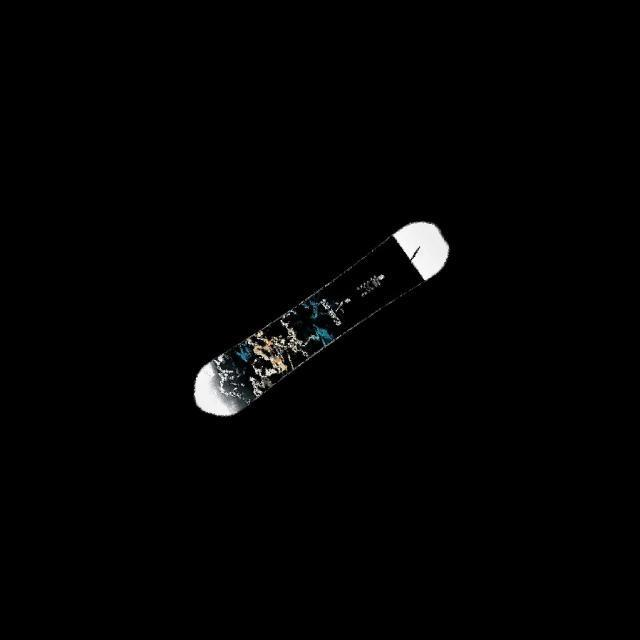Snowboard: (192, 219, 450, 417)
